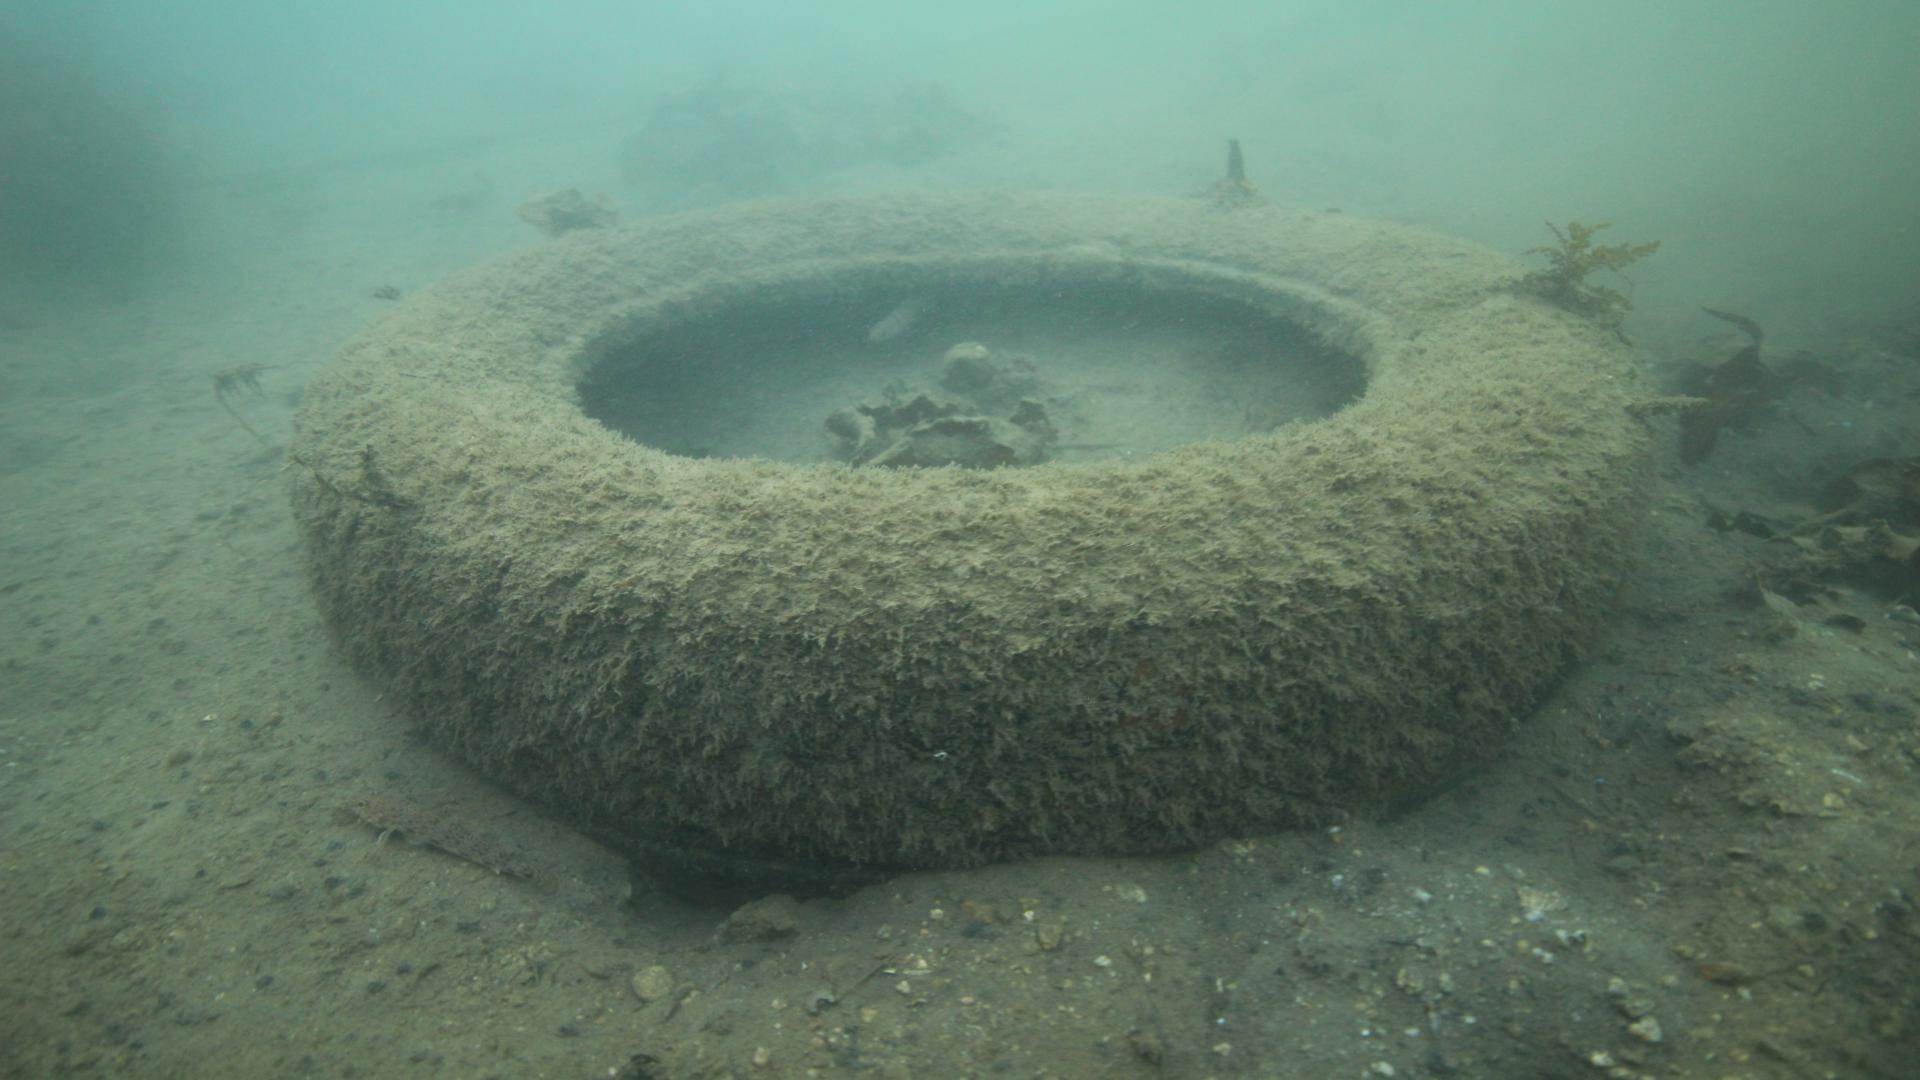tire: (284, 189, 1650, 895)
